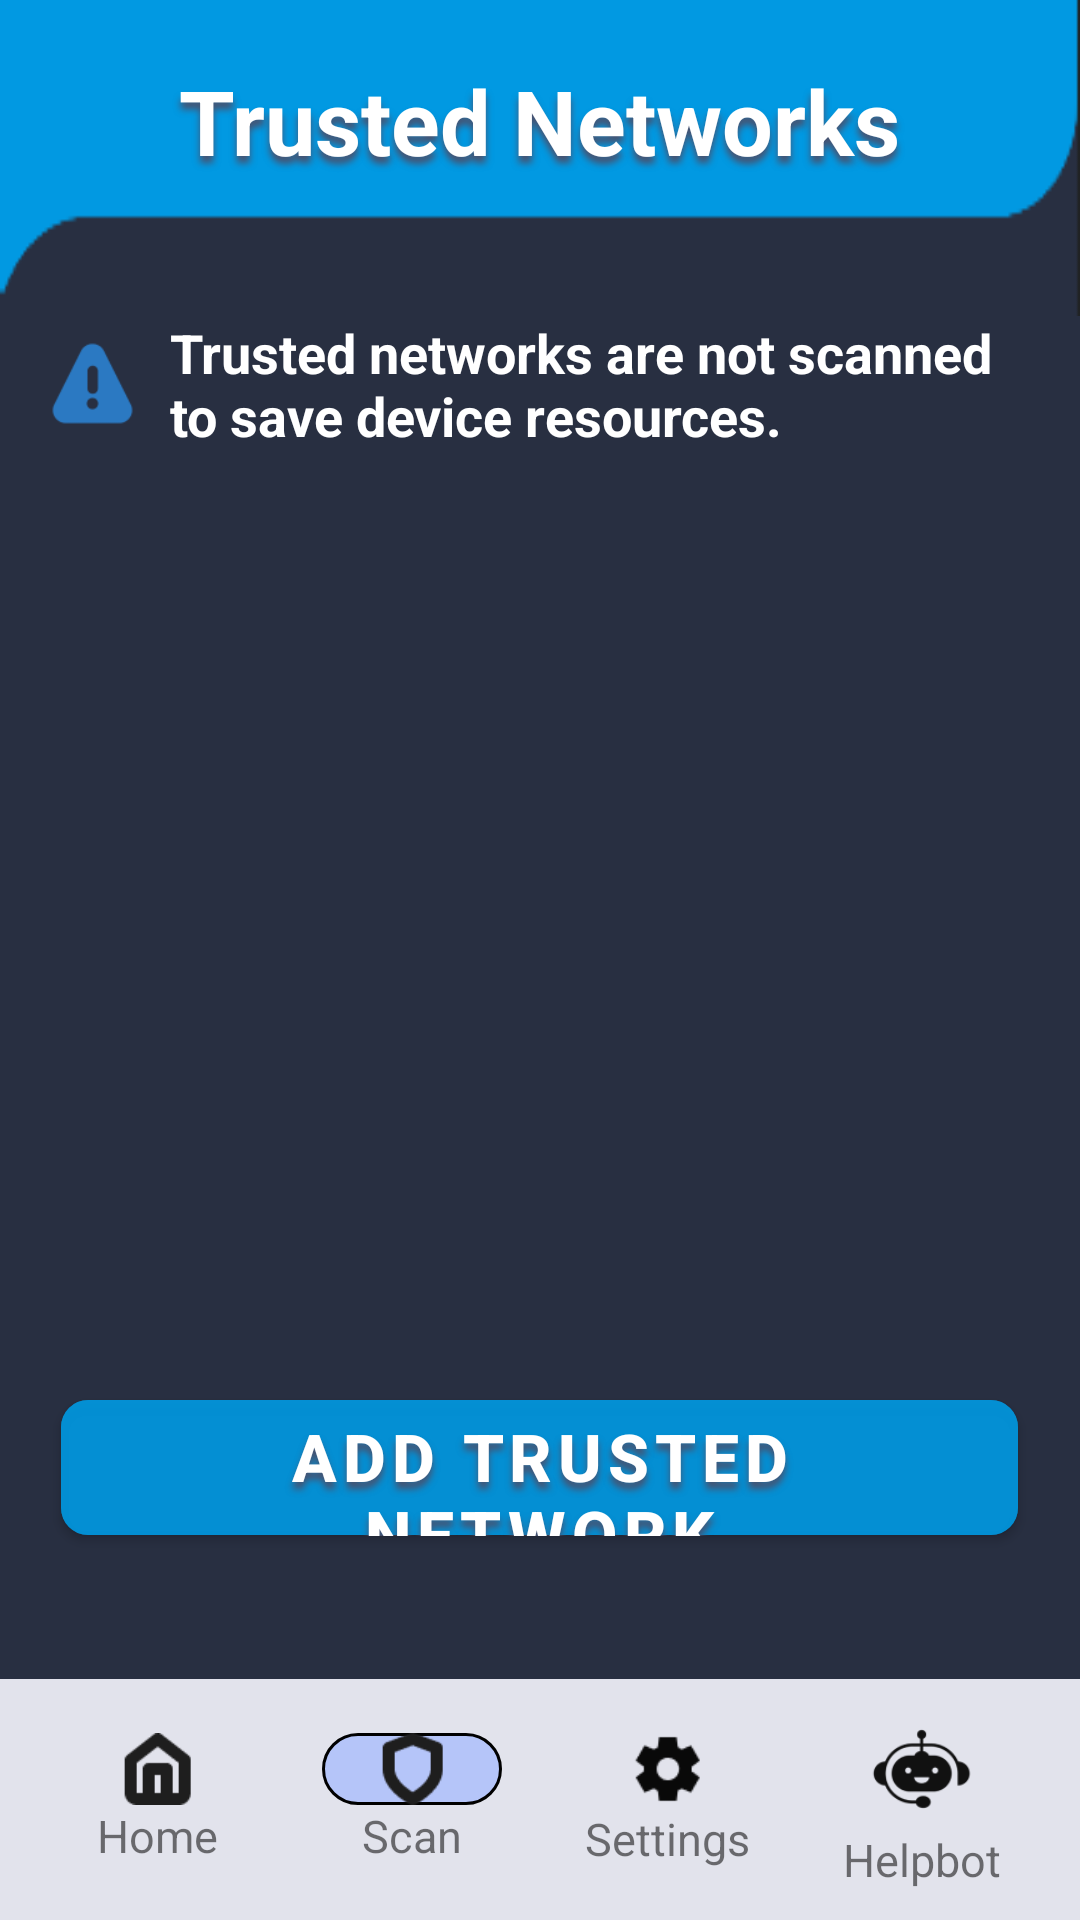

Where to tap for icons on this 1080px×1920px app screen, as point (x, y):
warning: point (92, 383)
